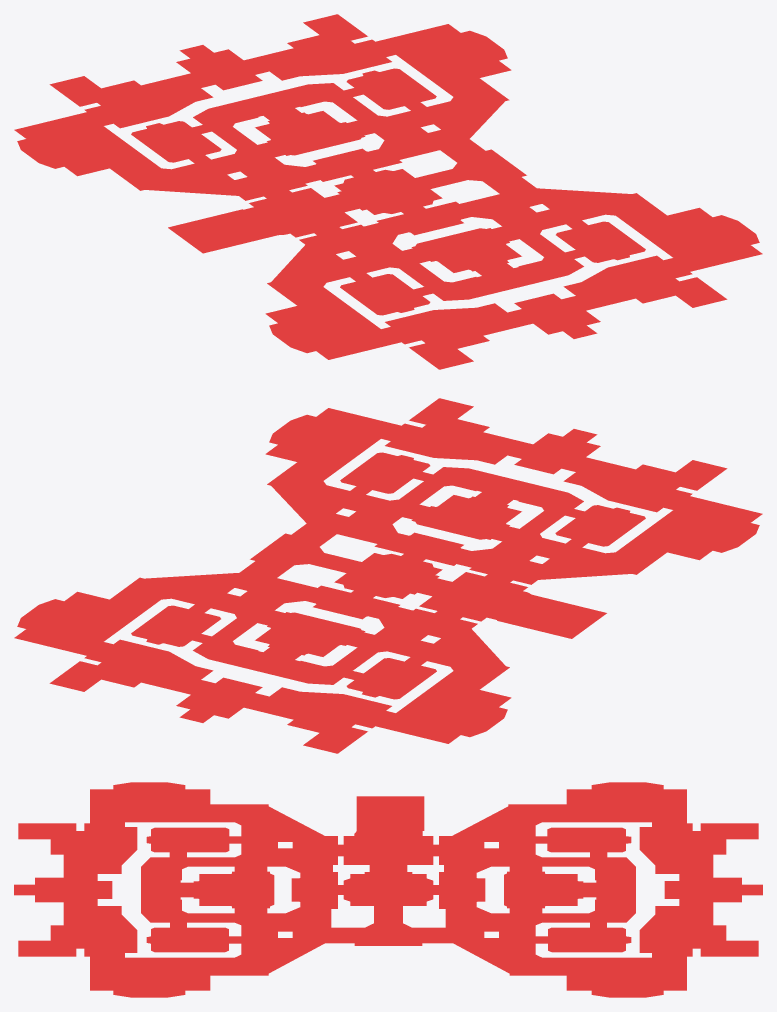
The model's file is Bg_Map_Cobalt.fbx.
3 renders of one model, top to bottom at view 1: azimuth 30°, elevation 25°; view 2: azimuth 150°, elevation 25°; view 3: azimuth 270°, elevation 25°, orthographic. The views are drawn at different scales.
Parts seen in each view (by area): view 1: Bg_Map_Cobalt_Navi03, Bg_Map_Cobalt_Navi01, Bg_Map_Cobalt_Navi04, Bg_Map_Cobalt_Navi05, Bg_Map_Cobalt_Navi02, Bg_Map_Cobalt_Navi06; view 2: Bg_Map_Cobalt_Navi03, Bg_Map_Cobalt_Navi01, Bg_Map_Cobalt_Navi05, Bg_Map_Cobalt_Navi04, Bg_Map_Cobalt_Navi02, Bg_Map_Cobalt_Navi06; view 3: Bg_Map_Cobalt_Navi03, Bg_Map_Cobalt_Navi01, Bg_Map_Cobalt_Navi04, Bg_Map_Cobalt_Navi05, Bg_Map_Cobalt_Navi02, Bg_Map_Cobalt_Navi06.
Boxes of the visible parts, x1,y1,x2,y2 form: Bg_Map_Cobalt_Navi03: (267, 182, 727, 369); Bg_Map_Cobalt_Navi01: (49, 14, 509, 200); Bg_Map_Cobalt_Navi04: (14, 24, 511, 176); Bg_Map_Cobalt_Navi05: (265, 207, 762, 359); Bg_Map_Cobalt_Navi02: (249, 145, 527, 237); Bg_Map_Cobalt_Navi06: (168, 207, 289, 253); Bg_Map_Cobalt_Navi03: (267, 398, 727, 584); Bg_Map_Cobalt_Navi01: (49, 566, 509, 753); Bg_Map_Cobalt_Navi05: (265, 408, 762, 560); Bg_Map_Cobalt_Navi04: (14, 591, 511, 743); Bg_Map_Cobalt_Navi02: (249, 529, 527, 621); Bg_Map_Cobalt_Navi06: (487, 591, 606, 638); Bg_Map_Cobalt_Navi03: (14, 804, 340, 975); Bg_Map_Cobalt_Navi01: (436, 804, 762, 975); Bg_Map_Cobalt_Navi04: (550, 782, 692, 997); Bg_Map_Cobalt_Navi05: (84, 782, 226, 997); Bg_Map_Cobalt_Navi02: (341, 836, 435, 945); Bg_Map_Cobalt_Navi06: (354, 796, 424, 835).
Bounding box in the file's own units: 70.7 × 5.26e-08 × 104.
